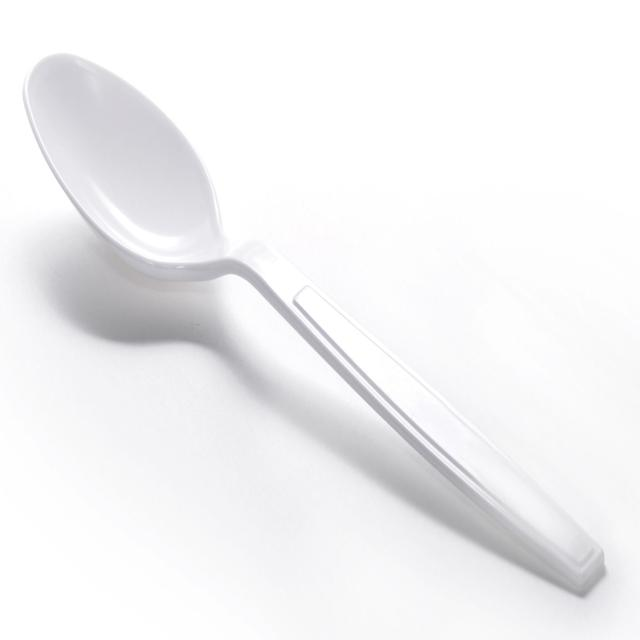spoon: (11, 44, 614, 598)
